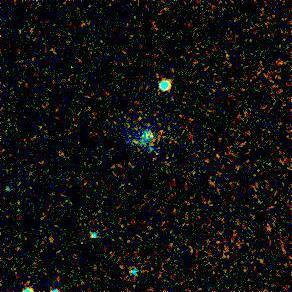star: (126, 103, 156, 133)
